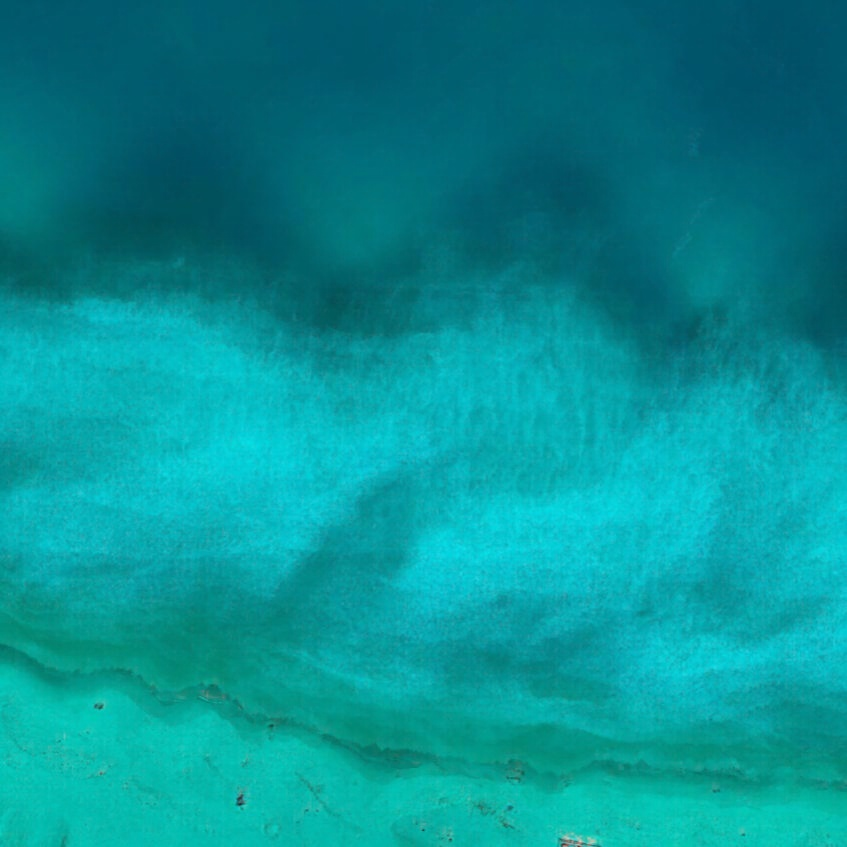rip_current: (240, 345, 636, 641)
